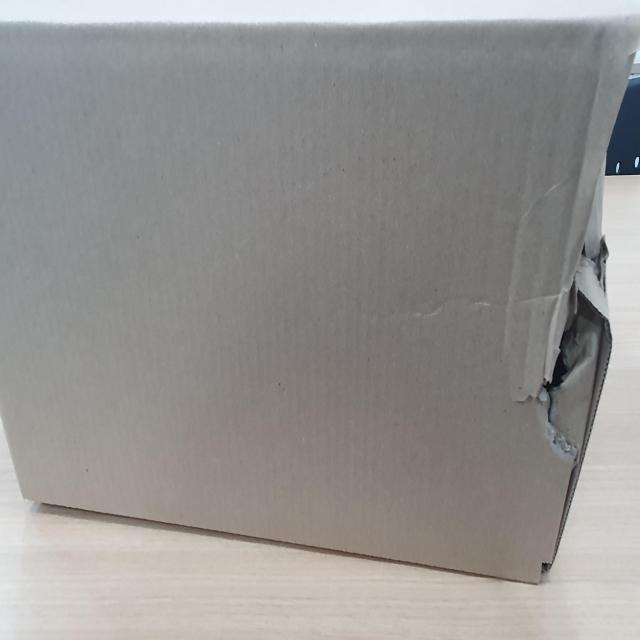damaged: (529, 177, 611, 471)
